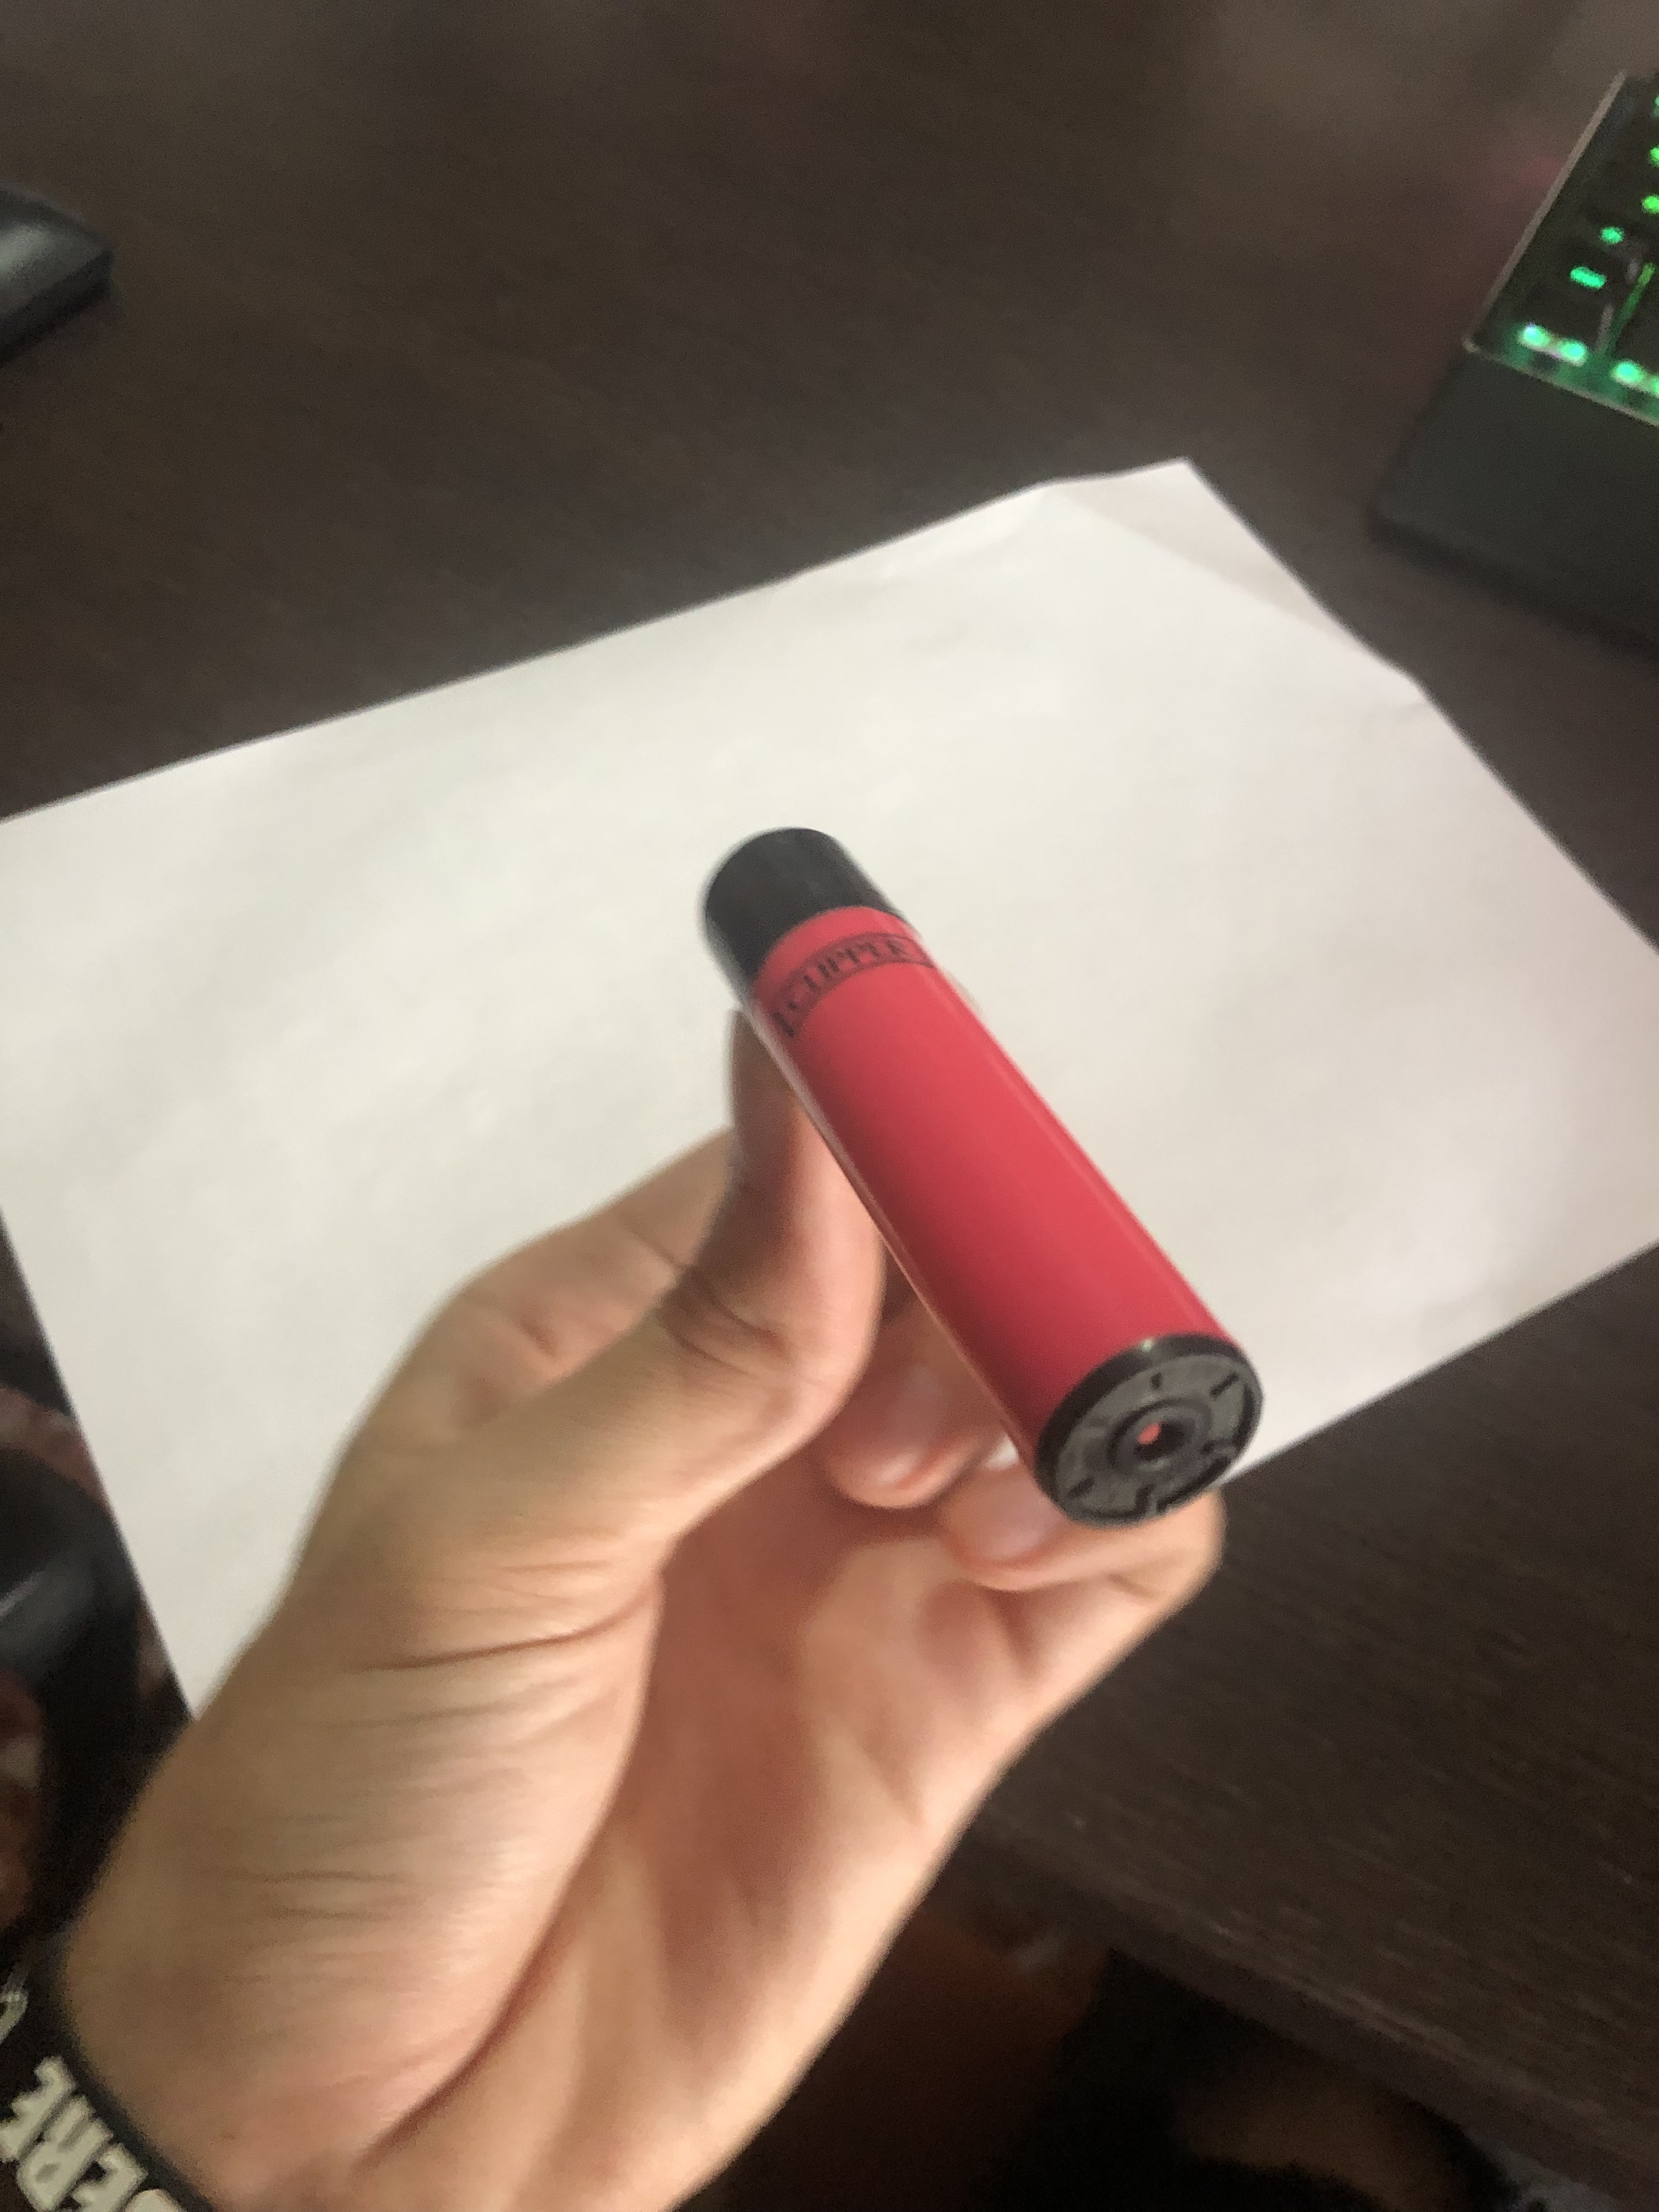Mechero: (690, 806, 1260, 1522)
